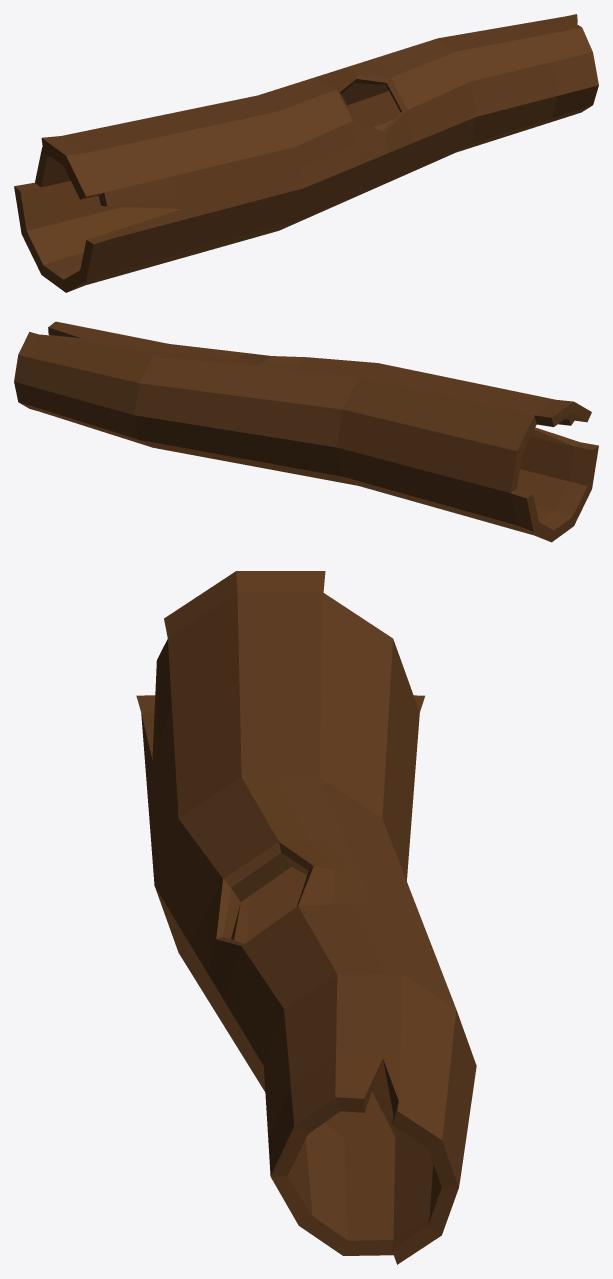
The model's file is log.fbx.
3 views of the same model, one above another, from view 1: azimuth 30°, elevation 25°; view 2: azimuth 150°, elevation 25°; view 3: azimuth 270°, elevation 25° (orthographic). The views are drawn at different scales.
Parts seen in each view (by area): view 1: Circle; view 2: Circle; view 3: Circle.
Boxes of the visible parts, box(x1,y1,x2,y2) form: Circle: box(14, 14, 598, 292); Circle: box(14, 321, 598, 542); Circle: box(136, 571, 476, 1264).
Bounding box in the file's own units: 811 × 191 × 237.
